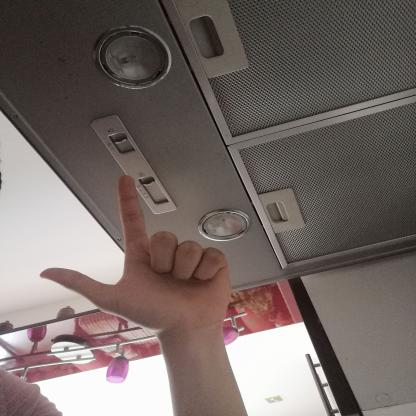LAAM: (32, 167, 243, 342)
